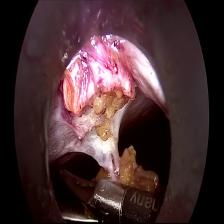Scissors: (55, 167, 128, 214)
